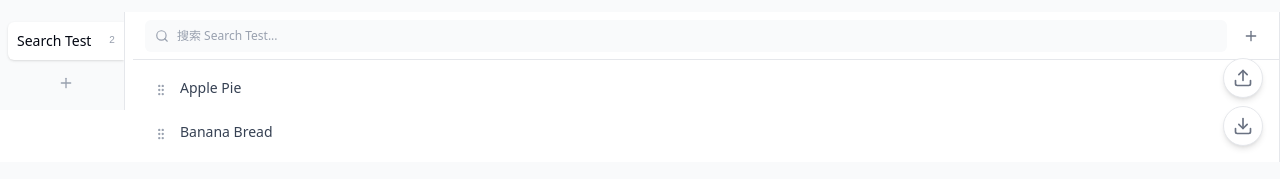
Scenario: LibraryPanel › should filter prompts by search query
The width and height of the screenshot is (1280, 179).
Expected: the button "Apple Pie" is shown, [180,78,241,97]
Expected: the button "Banana Bread" is shown, [180,122,273,141]
Type "Apple" into the field with placeholder "搜索 Search Test...". click: coordinates (686, 36)
box: [145,20,1227,52]
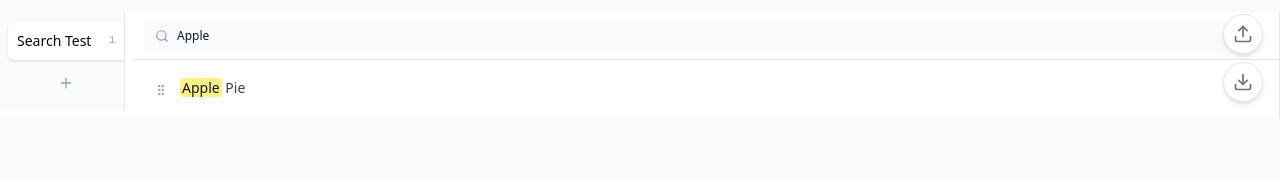
Expected: the text "Pie" is shown, [222,78,245,97]
Expected: the button "Banana Bread" is gone
